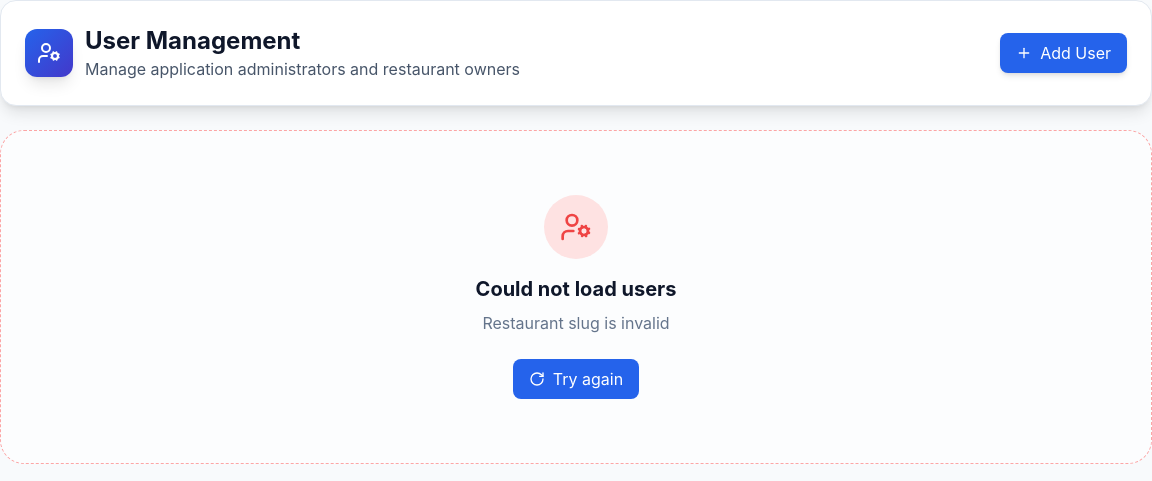
Test: UserManagement loading/empty/error states › shows the real error message and a retry action instead of swallowing the failure
Check: the message shows "Restaurant slug is invalid", box [482,313,670,333]
Step 1. Click the button "Try again" → [576, 379], box [513,359,639,399]
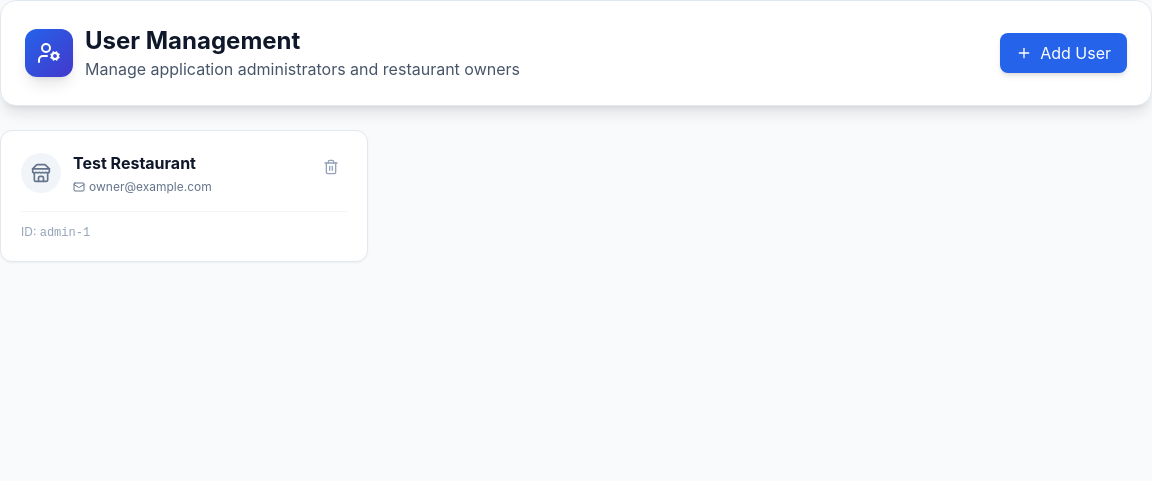
Check: the heading "Test Restaurant" is shown, box [73,151,212,175]
